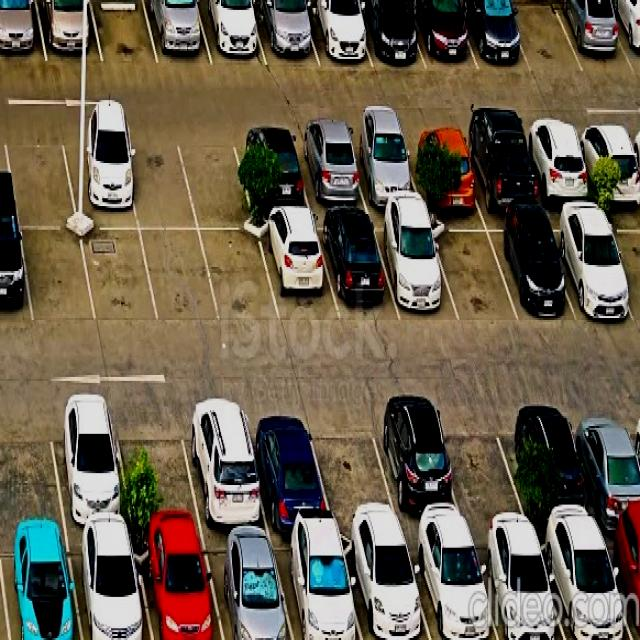empty: (437, 400, 531, 532), (307, 403, 402, 532), (113, 400, 203, 532), (428, 217, 518, 321), (0, 399, 65, 532), (176, 128, 255, 230), (122, 130, 198, 229), (3, 128, 78, 226), (82, 230, 158, 326), (141, 231, 220, 323), (200, 232, 279, 323), (21, 229, 96, 324), (506, 0, 583, 74), (602, 209, 640, 322), (91, 0, 158, 64)
occupied: (368, 401, 469, 533), (179, 398, 269, 532), (243, 402, 334, 530), (46, 398, 133, 531), (513, 399, 600, 531), (536, 529, 632, 640), (471, 533, 565, 640), (405, 533, 499, 640), (545, 210, 636, 318), (201, 535, 293, 640), (340, 534, 431, 640), (271, 534, 362, 640), (133, 534, 223, 640), (568, 399, 640, 528), (484, 217, 574, 320), (371, 216, 459, 321), (68, 533, 152, 640), (257, 216, 339, 324), (315, 215, 400, 319), (0, 533, 81, 640), (60, 129, 139, 229), (459, 127, 541, 210), (232, 128, 311, 212), (402, 128, 482, 208), (292, 128, 369, 210), (345, 127, 423, 207), (521, 124, 596, 204), (554, 0, 634, 72), (574, 123, 640, 202), (459, 0, 531, 71), (353, 0, 426, 68), (408, 0, 478, 70), (301, 0, 372, 67), (196, 0, 267, 65), (144, 0, 212, 65), (601, 527, 640, 640), (252, 0, 318, 65), (36, 0, 103, 62), (0, 224, 32, 325), (606, 0, 640, 71)
